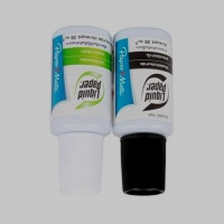correction_fluid: (47, 23, 116, 195), (111, 24, 175, 199)
